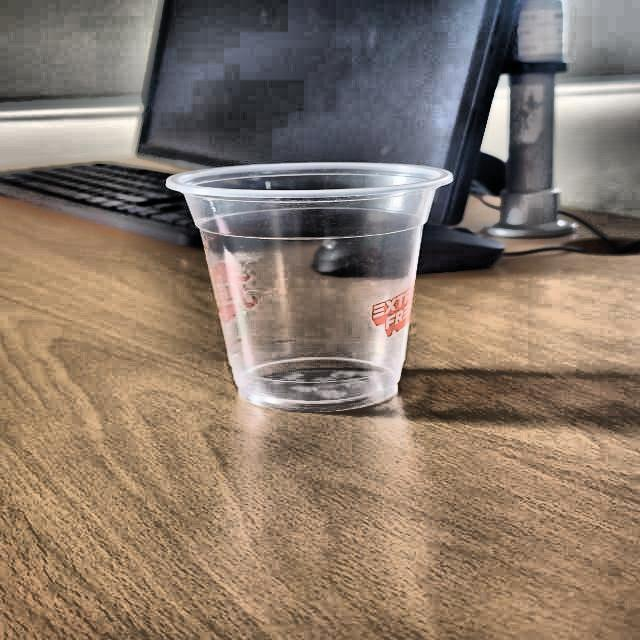plastic cup: (161, 162, 456, 414)
